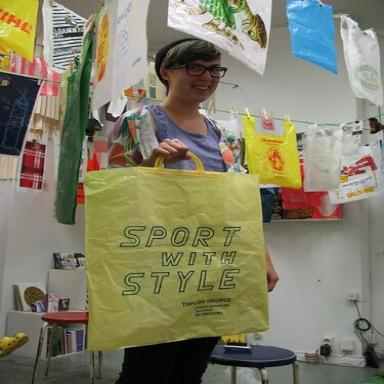plasticbag: (85, 144, 267, 348), (53, 74, 87, 230), (241, 112, 303, 188), (336, 15, 383, 106), (332, 124, 381, 202), (300, 121, 338, 188)
